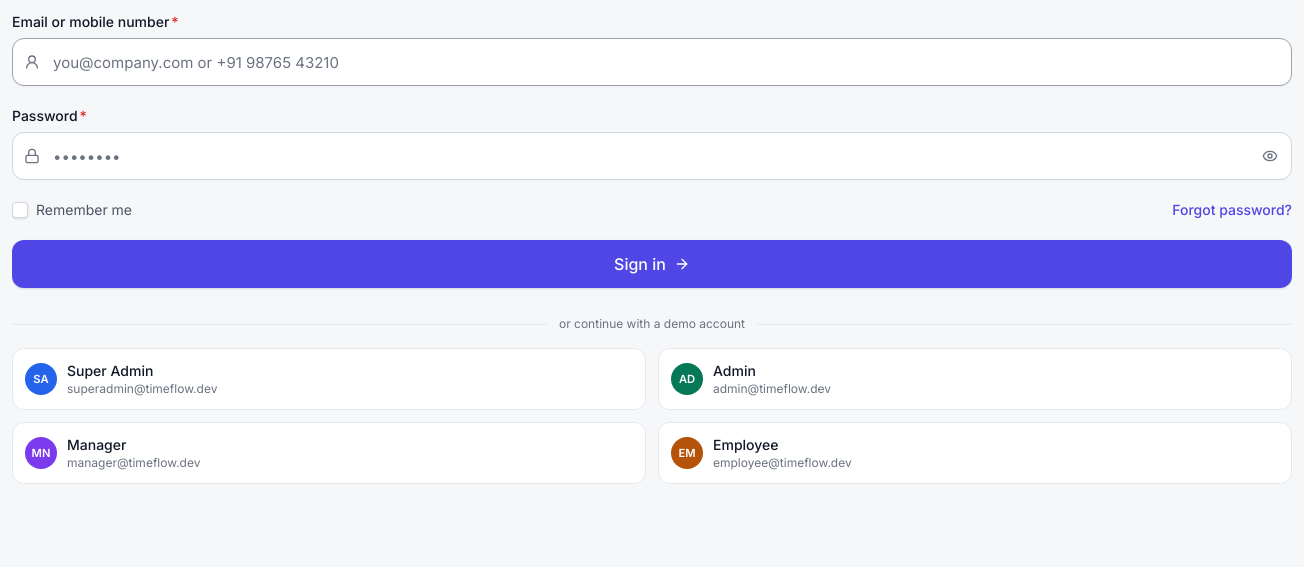
LoginForm › explains rate limiting
Type "admin@timeflow.dev" into the field labelled "Email or mobile number*" at (652, 62), box [12,38,1292,86]
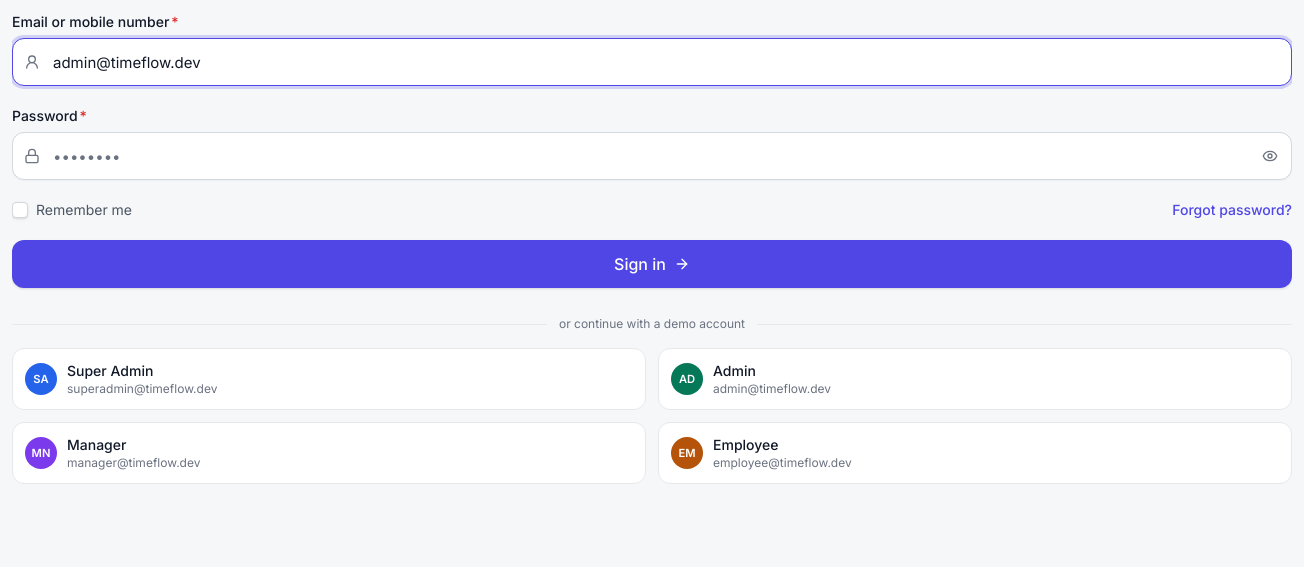
Type "Password123!" into the password field labelled "Password*" at (652, 156), box [12,132,1292,180]
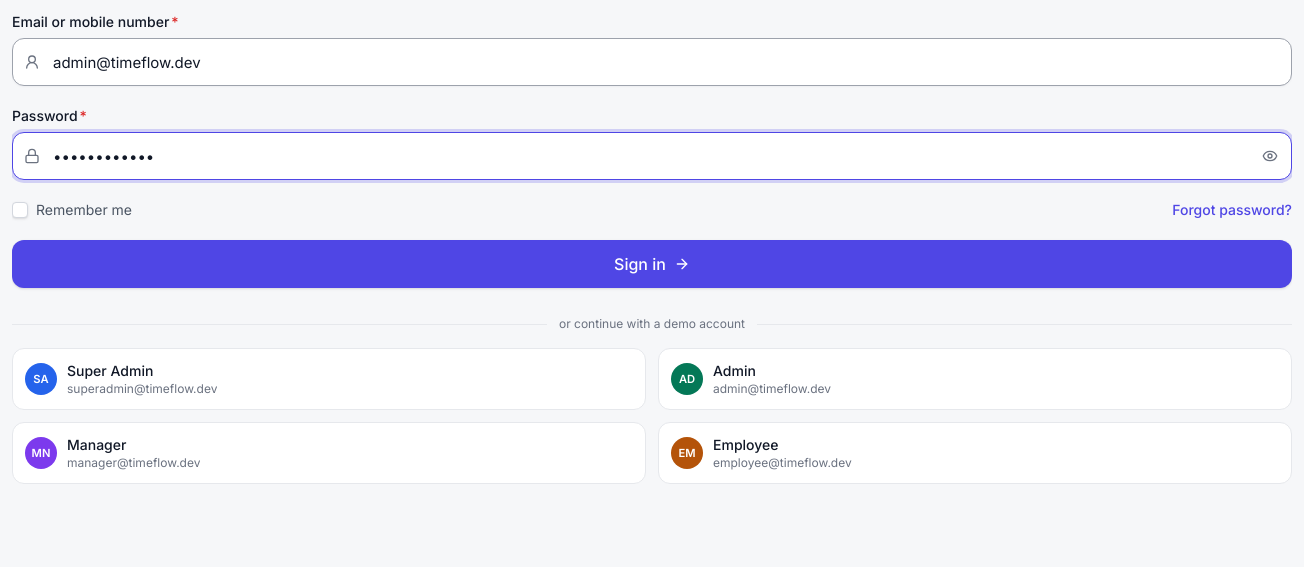
Click the button "Sign in" at (652, 264), box [12,240,1292,288]
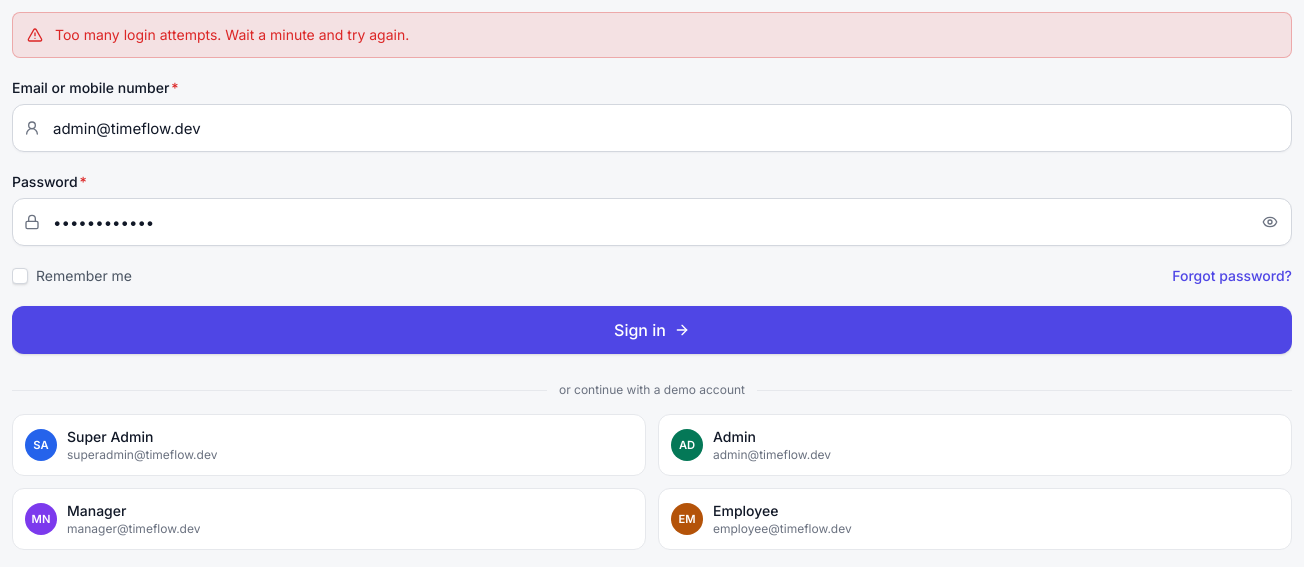
Check: the message shows "Too many login attempts", box [55,26,409,43]
